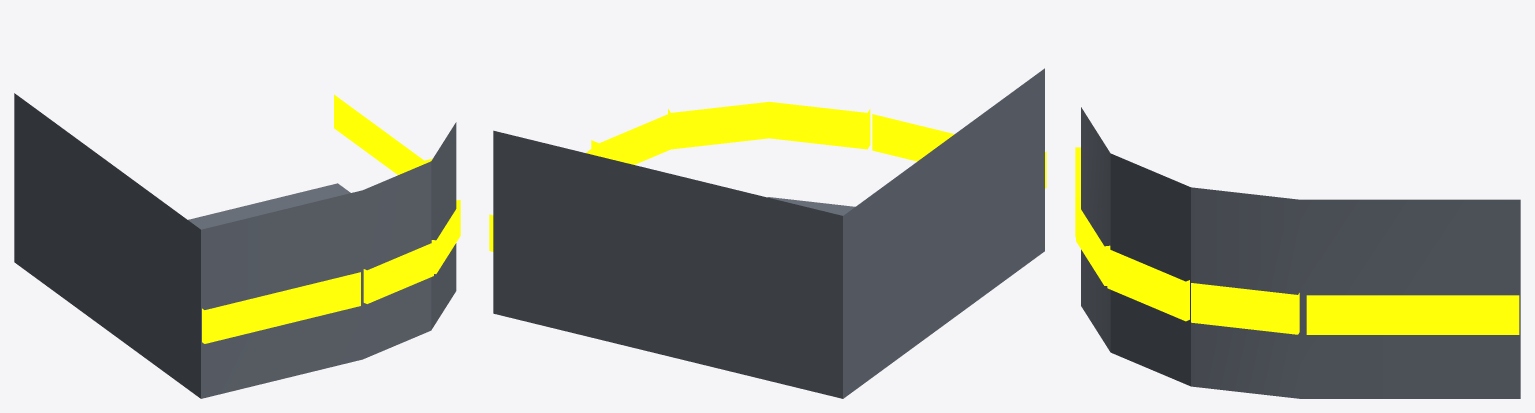
Rendered from ext_curb_corner.glb.
The picture shows the model from 3 angles, left to right: view 1: azimuth 30°, elevation 25°; view 2: azimuth 150°, elevation 25°; view 3: azimuth 270°, elevation 25°; orthographic projection. The views are drawn at different scales.
Parts seen in each view (by area): view 1: Curb, Reflector_Ends, Reflector_Strip; view 2: Curb, Reflector_Strip, Reflector_Ends; view 3: Curb, Reflector_Strip, Reflector_Ends.
Boxes of the visible parts, x1,y1,x2,y2 form: Curb: (14, 93, 456, 398); Reflector_Ends: (202, 94, 432, 343); Reflector_Strip: (363, 200, 460, 303); Curb: (493, 68, 1044, 398); Reflector_Strip: (591, 101, 870, 164); Reflector_Ends: (489, 114, 1046, 251); Curb: (1081, 107, 1520, 398); Reflector_Strip: (1076, 202, 1299, 334); Reflector_Ends: (1075, 147, 1519, 334).
Size of the model in its own units: 0.304 by 0.15 by 0.304.
